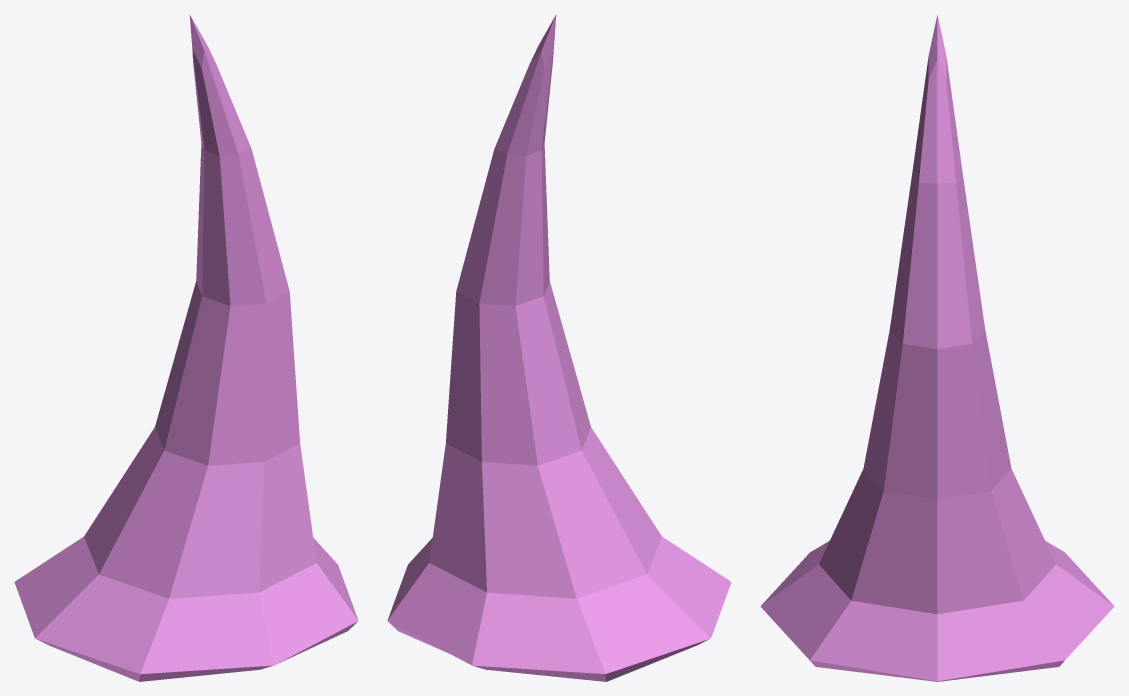
File: Spine 02.fbx
3 renders of one model, left to right at view 1: azimuth 30°, elevation 25°; view 2: azimuth 150°, elevation 25°; view 3: azimuth 270°, elevation 25°, orthographic.
Visible parts, largest first — view 1: Spine 02; view 2: Spine 02; view 3: Spine 02.
Boxes of the visible parts, bbox=[...] form: Spine 02: bbox=[14, 14, 358, 681]; Spine 02: bbox=[387, 14, 731, 681]; Spine 02: bbox=[760, 14, 1114, 681].
Bounding box in the file's own units: 30.4 × 57.47 × 30.4.
